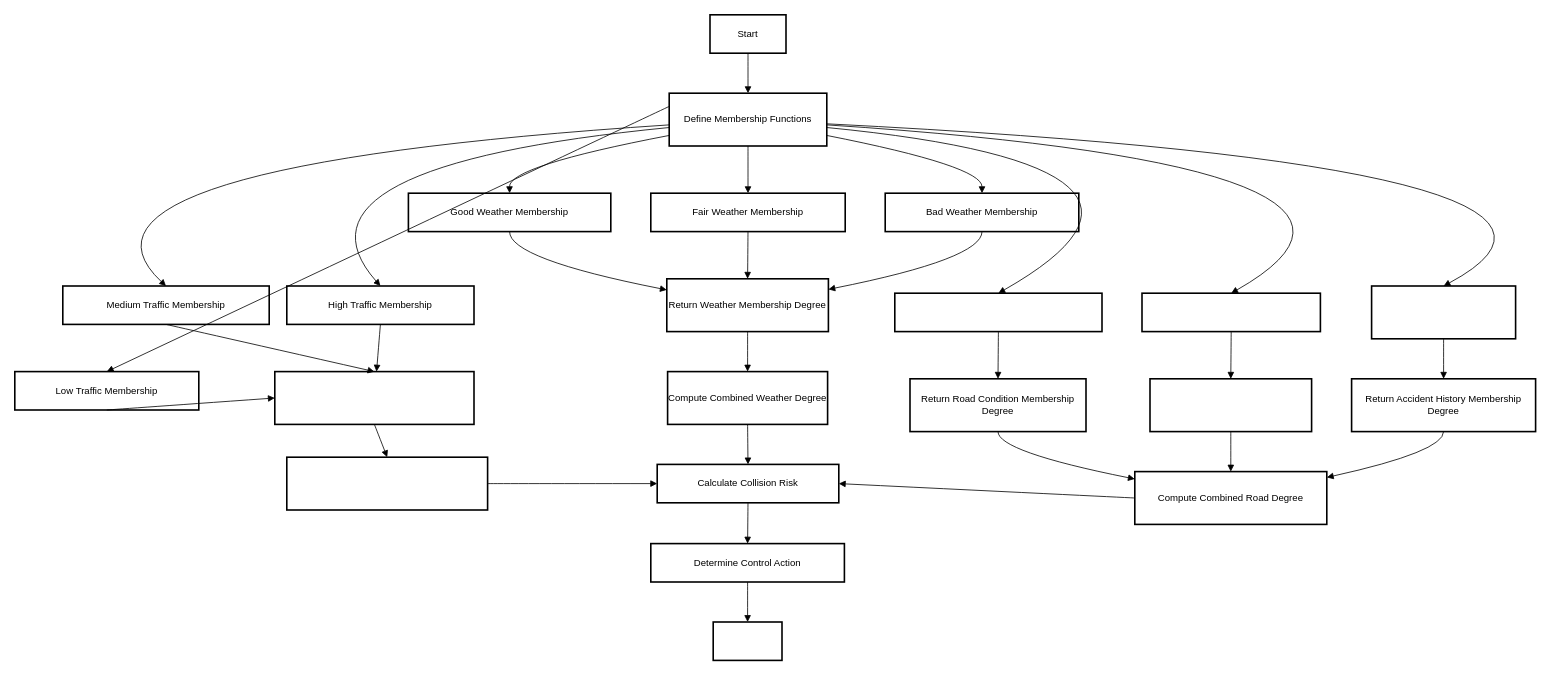
Image size: 1550x674. Some labels were removed from this diagram. Here are the shapes that lost their labels. From the top down, the box of each, then its label:
(894, 292, 1102, 332): Road Condition Membership
(1141, 292, 1321, 332): Road Type Membership
(1370, 285, 1516, 339): Accident History Membership
(274, 370, 474, 425): Return Traffic Membership Degree
(1149, 378, 1312, 432): Return Road Type Membership Degree
(286, 456, 488, 510): Compute Combined Traffic Degree
(712, 621, 782, 661): End
